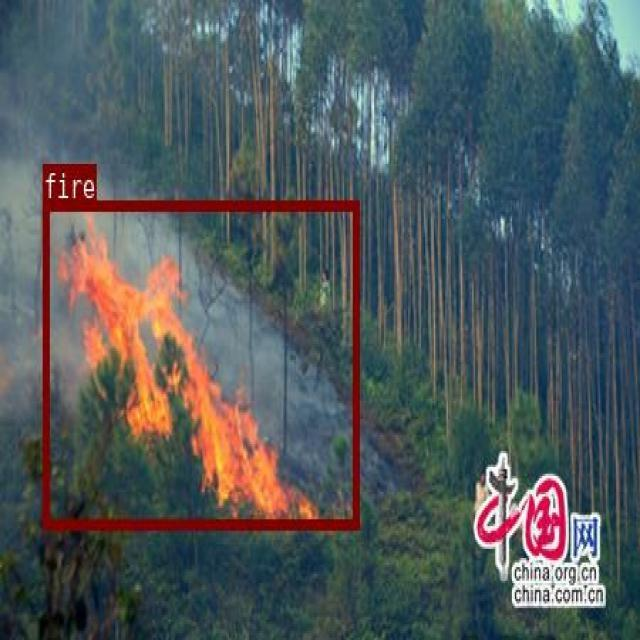fire: (42, 198, 358, 527)
